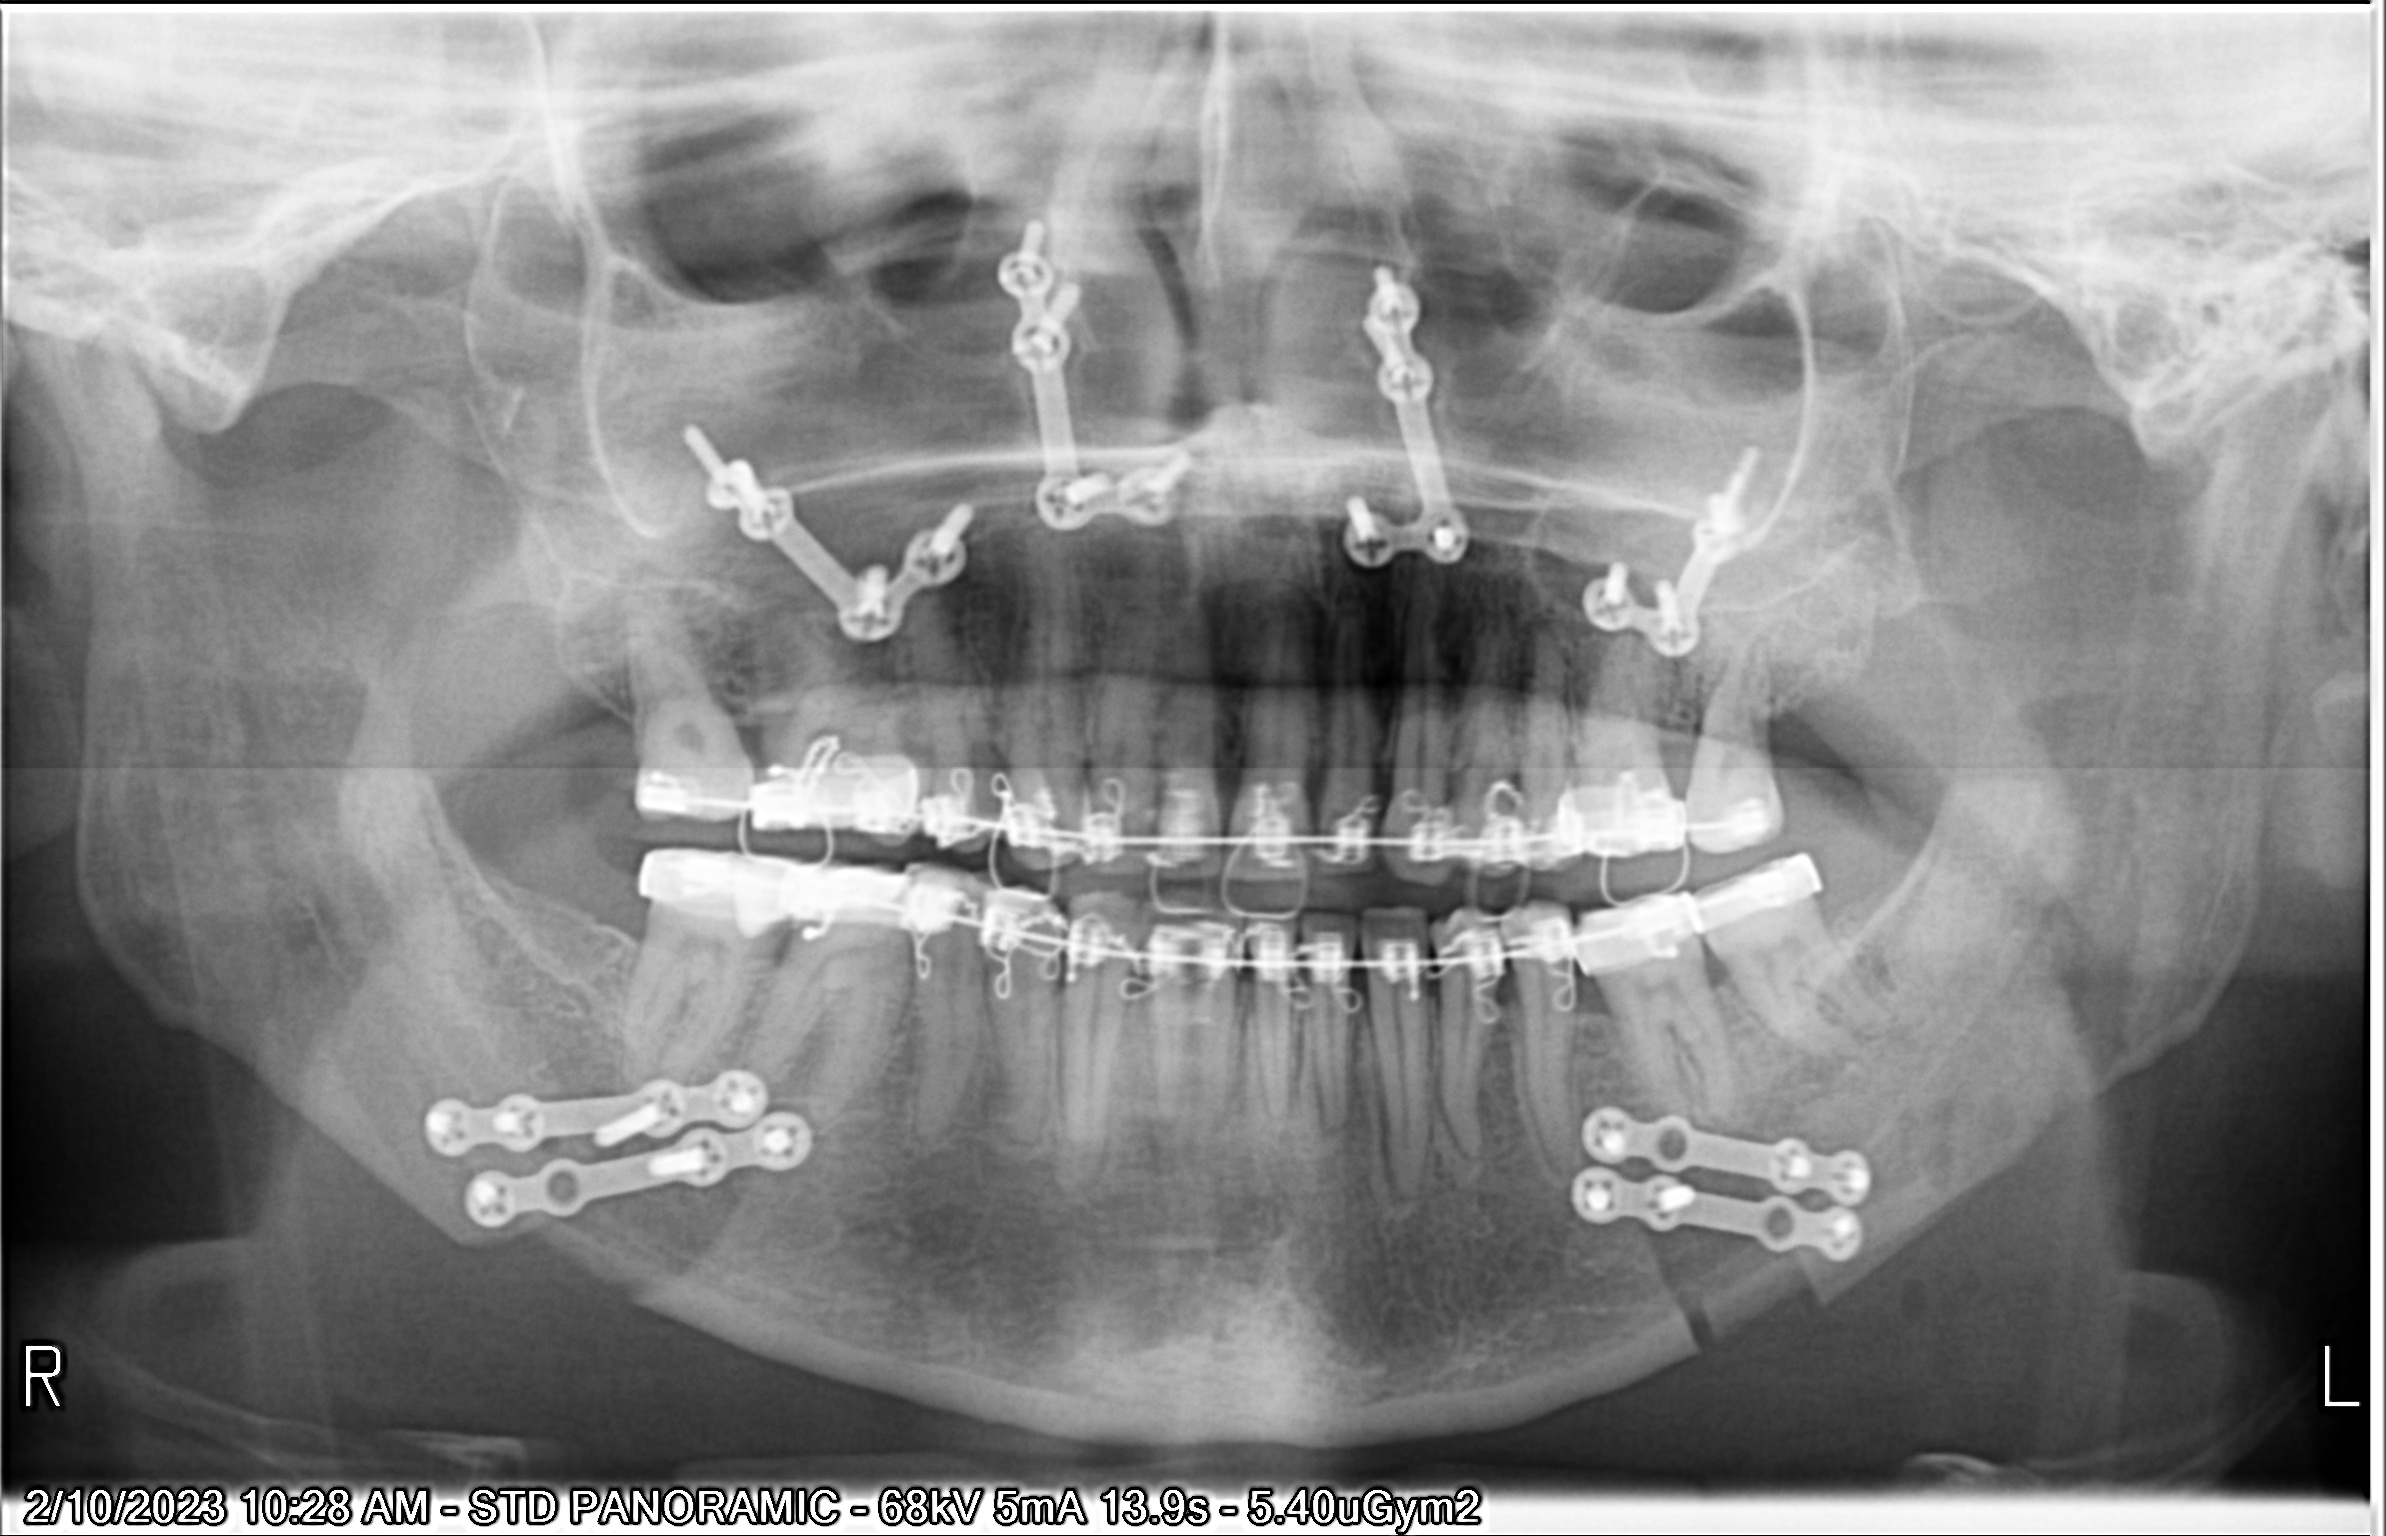ORD: (0, 351, 1546, 1359), (0, 304, 1515, 1171)
SRD: (609, 461, 2386, 1536), (675, 96, 2386, 769), (10, 451, 831, 1536), (586, 0, 2059, 534), (151, 92, 1139, 734), (390, 0, 1590, 466)
